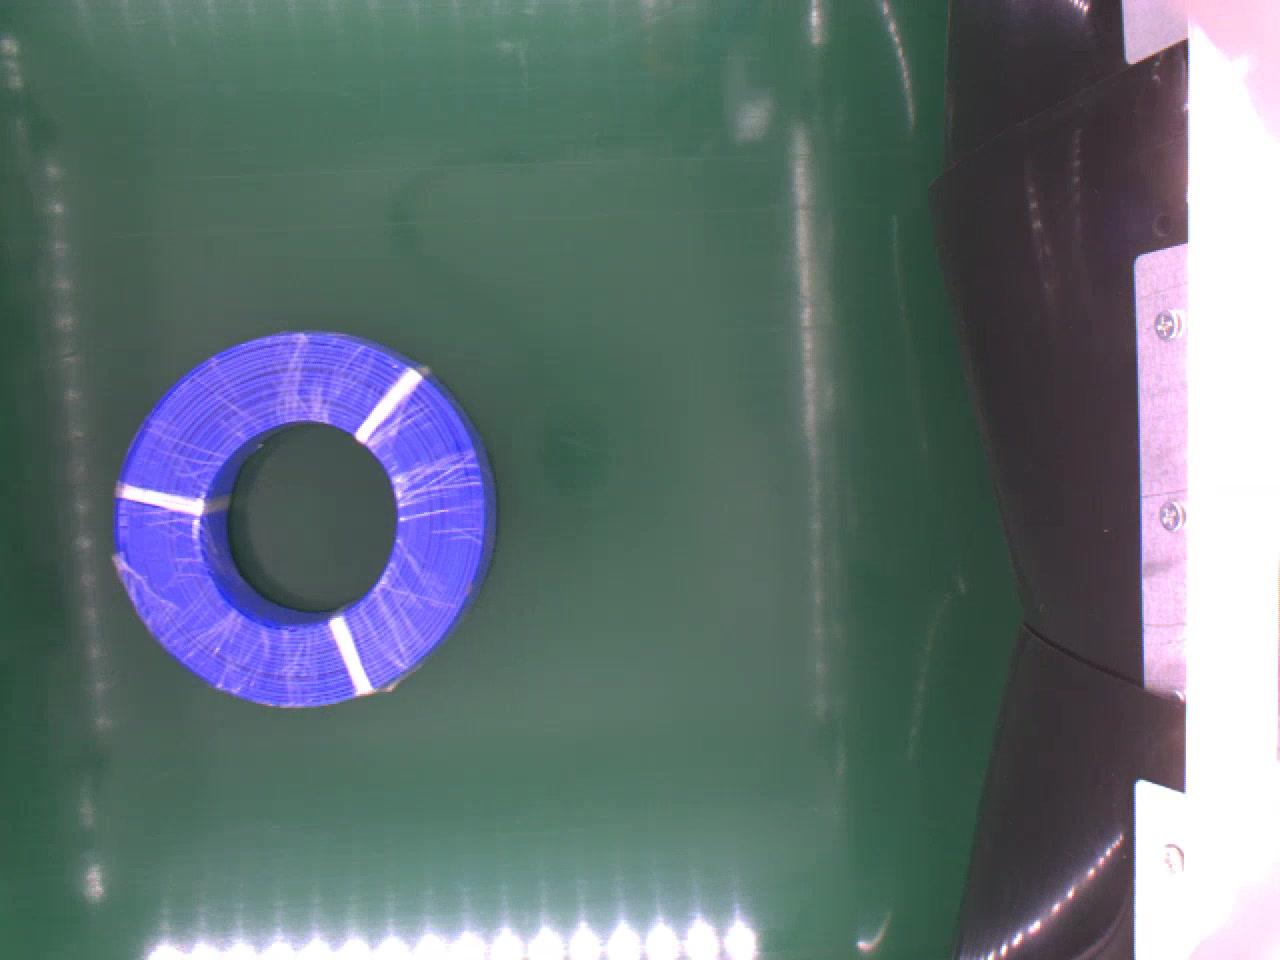blue: (101, 314, 508, 706)
